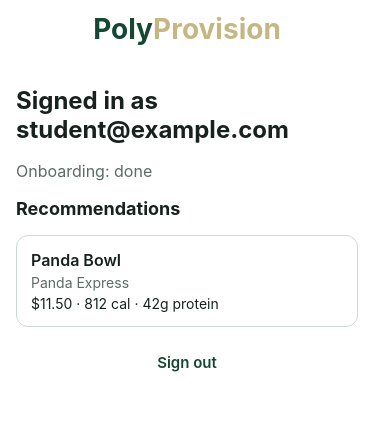
HomeScreen › shows a message if sign out fails
The width and height of the screenshot is (375, 422).
Click the button "Sign out": (187, 362) [16,343,358,382]
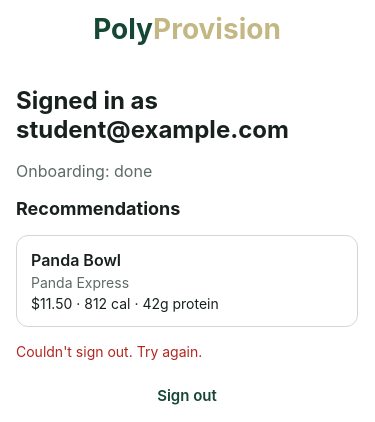
expect the text "Couldn't sign out. Try again." is shown: met, box [16,343,202,360]
